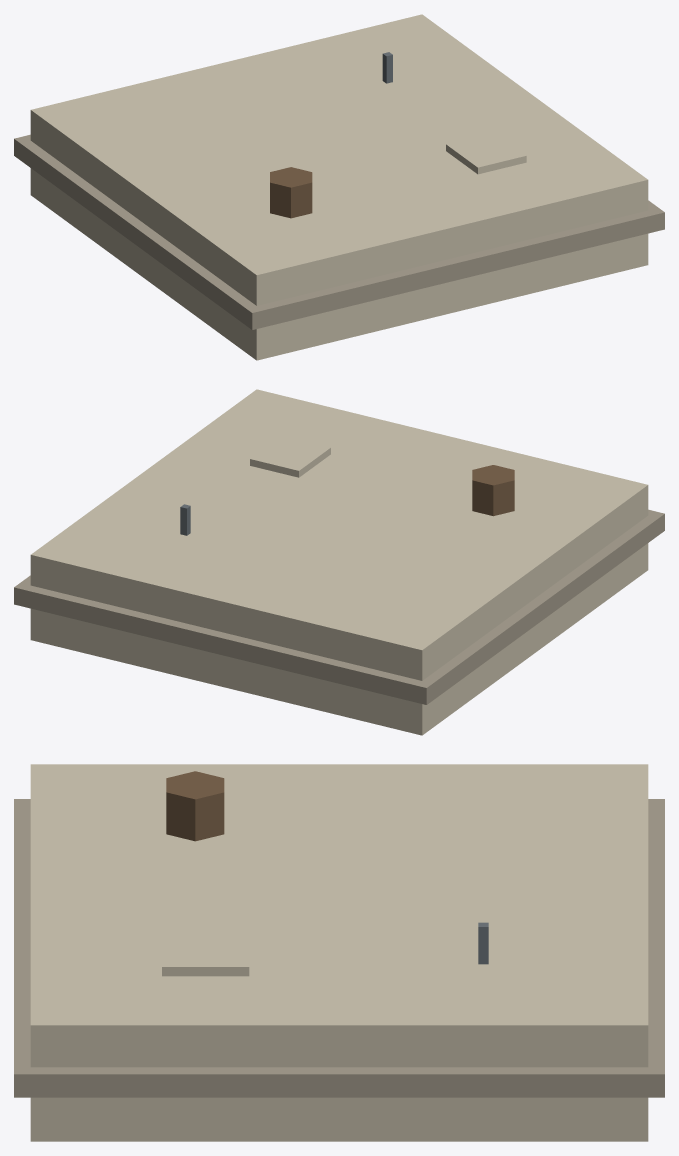
The model's file is tw_stone_24_crown_lod1.glb.
3 renders of one model, top to bottom at view 1: azimuth 30°, elevation 25°; view 2: azimuth 150°, elevation 25°; view 3: azimuth 270°, elevation 25°, orthographic. The views are drawn at different scales.
Visible parts, largest first — view 1: tw_stone_24_crown_lod1; view 2: tw_stone_24_crown_lod1; view 3: tw_stone_24_crown_lod1.
Part boxes in pixels (<box>): tw_stone_24_crown_lod1: <box>14,14,664,360</box>; tw_stone_24_crown_lod1: <box>14,389,664,735</box>; tw_stone_24_crown_lod1: <box>14,764,664,1141</box>.
Size of the model in its own units: 25.3 by 6.8 by 25.3.
2 materials, 2 textured.
